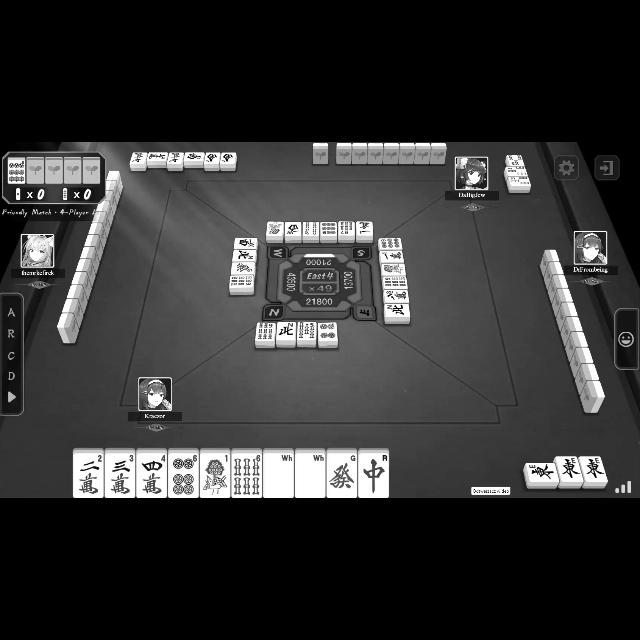1m: (380, 252, 404, 262), (357, 222, 371, 234)
1s: (201, 454, 229, 498), (382, 264, 406, 274), (268, 222, 282, 235)
2m: (73, 454, 103, 498)
3m: (106, 454, 134, 498)
3s: (507, 154, 523, 166), (510, 177, 530, 186), (507, 167, 527, 175)
4m: (138, 454, 166, 498)
4p: (320, 323, 338, 342)
4s: (304, 222, 318, 236)
5s: (298, 322, 316, 342)
6p: (170, 455, 197, 497)
6s: (232, 454, 262, 498)
7m: (130, 152, 146, 164), (169, 152, 183, 164), (148, 152, 168, 160)
7s: (340, 221, 354, 235)
8m: (386, 290, 408, 302)
9p: (8, 160, 26, 184), (379, 238, 401, 250), (322, 222, 336, 236)
9s: (258, 322, 274, 342), (230, 275, 254, 287), (384, 277, 406, 287)
chun: (359, 454, 388, 498)
haku: (265, 454, 293, 498), (297, 455, 325, 497)
hatsu: (328, 454, 356, 498), (232, 264, 254, 274)
nan: (222, 152, 235, 164), (186, 153, 204, 161), (206, 153, 218, 163)
pe: (384, 304, 408, 318), (277, 322, 295, 340), (232, 251, 255, 261)
sha: (235, 239, 258, 249), (286, 223, 300, 237)
tou: (526, 464, 556, 482), (584, 458, 606, 482), (560, 458, 580, 482)
